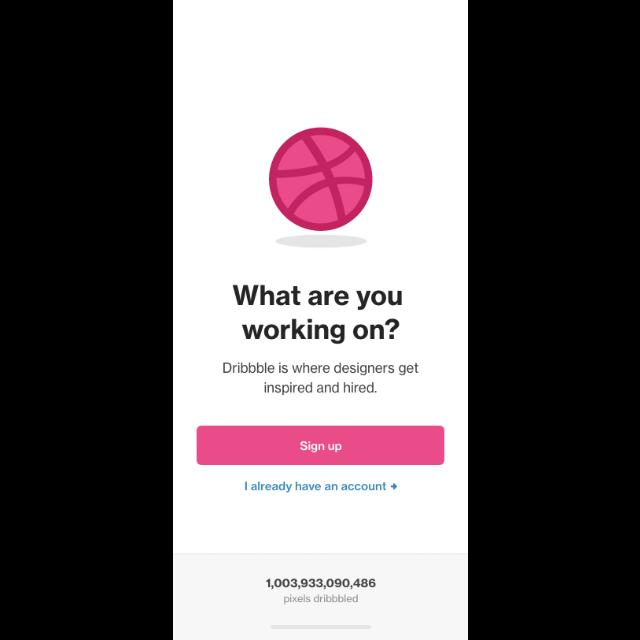icon: (389, 482, 396, 490)
image: (268, 128, 372, 248)
text: (232, 284, 402, 344), (223, 362, 419, 396), (244, 481, 386, 493), (266, 578, 376, 590), (284, 594, 358, 604)
textbutton: (196, 426, 444, 466)
